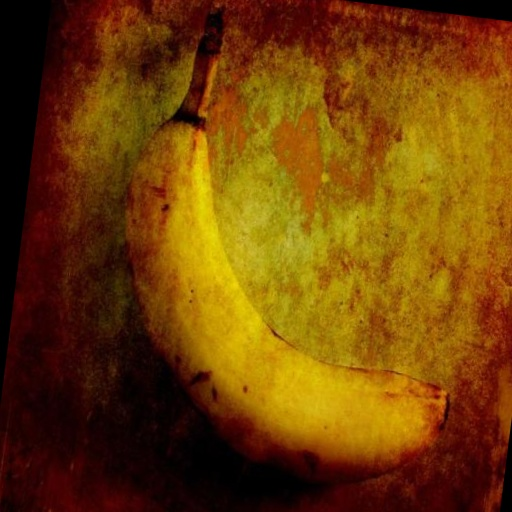fruit: (126, 14, 448, 481)
